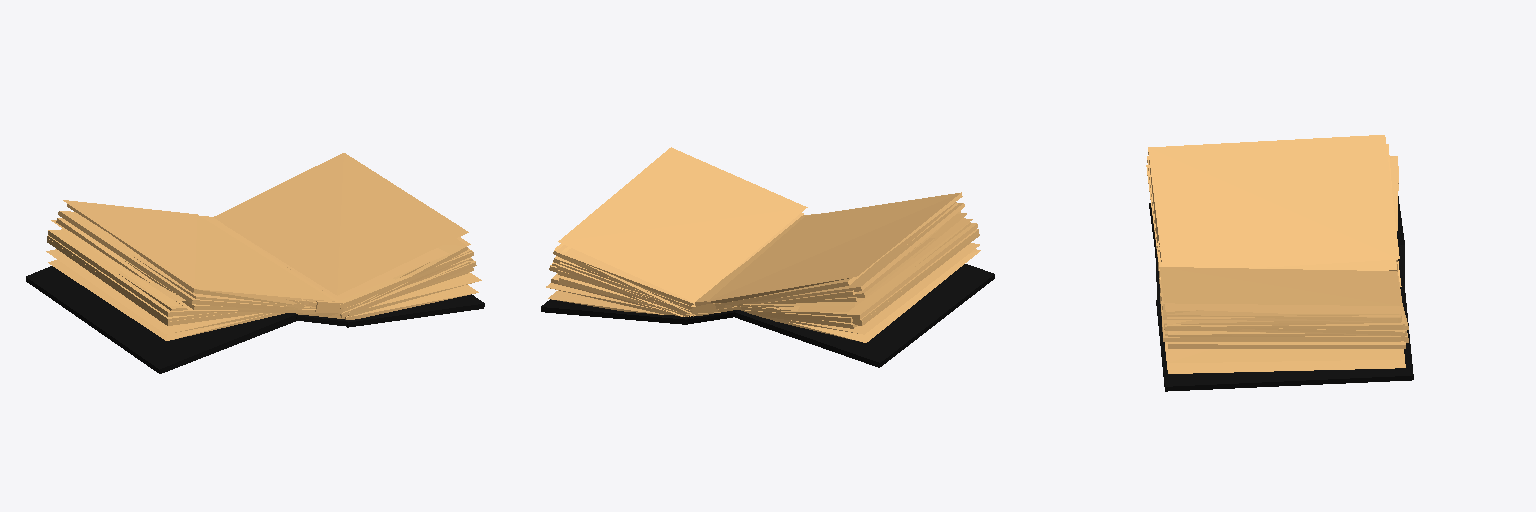
3 views of the same model, side by side, from view 1: azimuth 30°, elevation 25°; view 2: azimuth 150°, elevation 25°; view 3: azimuth 270°, elevation 25° (orthographic).
Parts seen in each view (by area): view 1: mesh[number redacted].001, mesh[number redacted].001, mesh[number redacted], mesh[number redacted], mesh[number redacted], mesh[number redacted], mesh[number redacted], mesh[number redacted], mesh[number redacted], mesh[number redacted], mesh[number redacted], mesh[number redacted] (+1 smaller); view 2: mesh[number redacted].001, mesh[number redacted].001, mesh[number redacted], mesh[number redacted], mesh[number redacted], mesh[number redacted], mesh[number redacted], mesh[number redacted], mesh[number redacted], mesh[number redacted], mesh[number redacted], mesh[number redacted] (+1 smaller); view 3: mesh[number redacted].001, mesh[number redacted].001, mesh[number redacted], mesh[number redacted], mesh[number redacted], mesh[number redacted], mesh[number redacted], mesh[number redacted], mesh[number redacted], mesh[number redacted].
Part boxes in pixels (bbox=[...]): mesh[number redacted].001: bbox=[213, 153, 468, 295]; mesh[number redacted].001: bbox=[63, 200, 334, 307]; mesh[number redacted]: bbox=[26, 266, 297, 373]; mesh[number redacted]: bbox=[56, 204, 316, 313]; mesh[number redacted]: bbox=[46, 235, 303, 340]; mesh[number redacted]: bbox=[47, 220, 316, 325]; mesh[number redacted]: bbox=[214, 216, 473, 308]; mesh[number redacted]: bbox=[347, 294, 484, 327]; mesh[number redacted]: bbox=[348, 272, 481, 316]; mesh[number redacted]: bbox=[345, 285, 478, 319]; mesh[number redacted]: bbox=[356, 238, 470, 306]; mesh[number redacted]: bbox=[201, 216, 343, 313]; mesh[number redacted].001: bbox=[558, 147, 807, 302]; mesh[number redacted].001: bbox=[707, 192, 962, 302]; mesh[number redacted]: bbox=[735, 264, 994, 367]; mesh[number redacted]: bbox=[732, 214, 979, 328]; mesh[number redacted]: bbox=[715, 202, 966, 311]; mesh[number redacted]: bbox=[737, 229, 980, 342]; mesh[number redacted]: bbox=[551, 262, 693, 316]; mesh[number redacted]: bbox=[553, 213, 803, 309]; mesh[number redacted]: bbox=[541, 299, 689, 324]; mesh[number redacted]: bbox=[556, 247, 695, 315]; mesh[number redacted]: bbox=[548, 290, 663, 314]; mesh[number redacted]: bbox=[695, 213, 821, 306]; mesh[number redacted].001: bbox=[1148, 135, 1399, 268]; mesh[number redacted].001: bbox=[1159, 267, 1401, 305]; mesh[number redacted]: bbox=[1156, 288, 1413, 391]; mesh[number redacted]: bbox=[1166, 316, 1408, 348]; mesh[number redacted]: bbox=[1159, 272, 1403, 330]; mesh[number redacted]: bbox=[1160, 300, 1403, 362]; mesh[number redacted]: bbox=[1163, 304, 1402, 335]; mesh[number redacted]: bbox=[1167, 349, 1405, 373]; mesh[number redacted]: bbox=[1160, 293, 1400, 341]; mesh[number redacted]: bbox=[1158, 258, 1396, 279].
Size of the model in its own units: 0.6991 by 0.2037 by 0.4724.